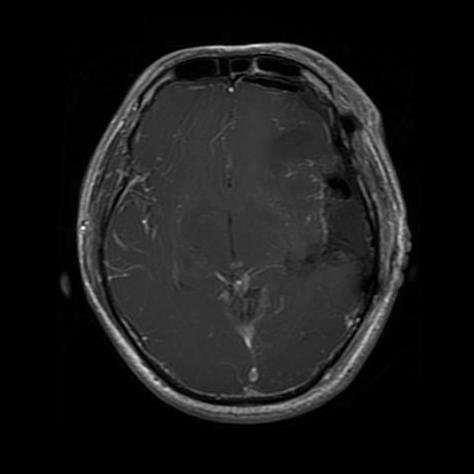Tumour-Glioma: (304, 172, 375, 280)
